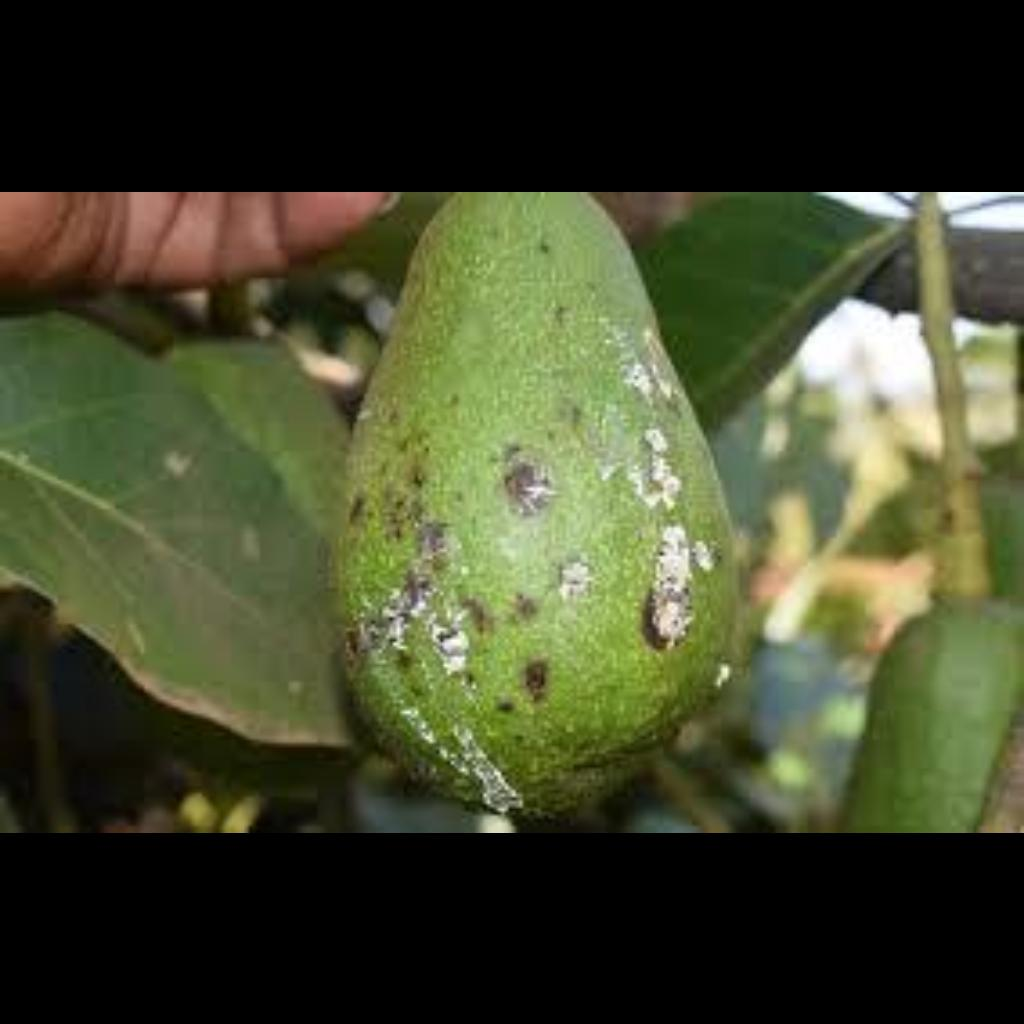cercospora_spot: (317, 194, 753, 818)
